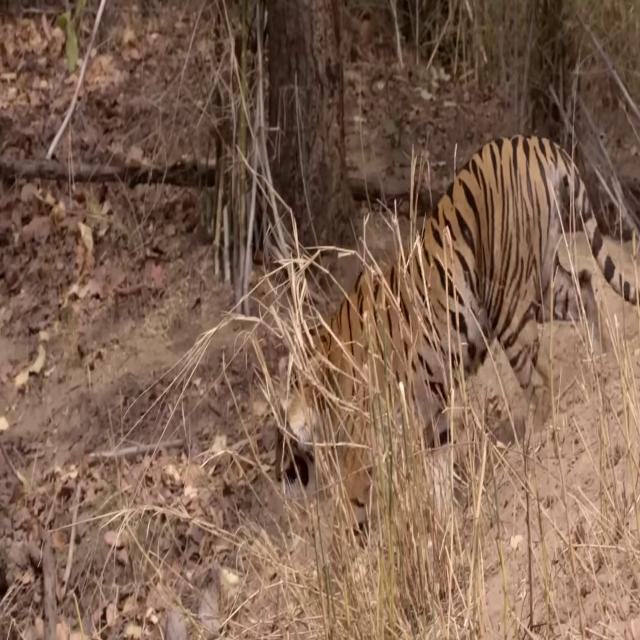tiger: (274, 132, 640, 551)
